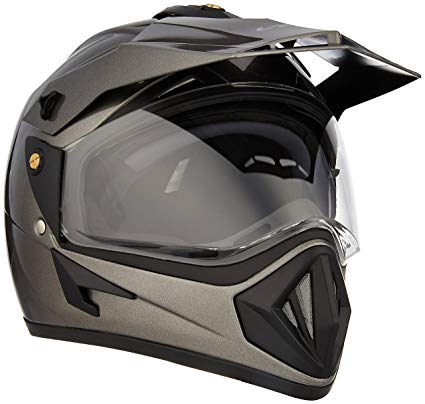helmet: (10, 3, 425, 403)
